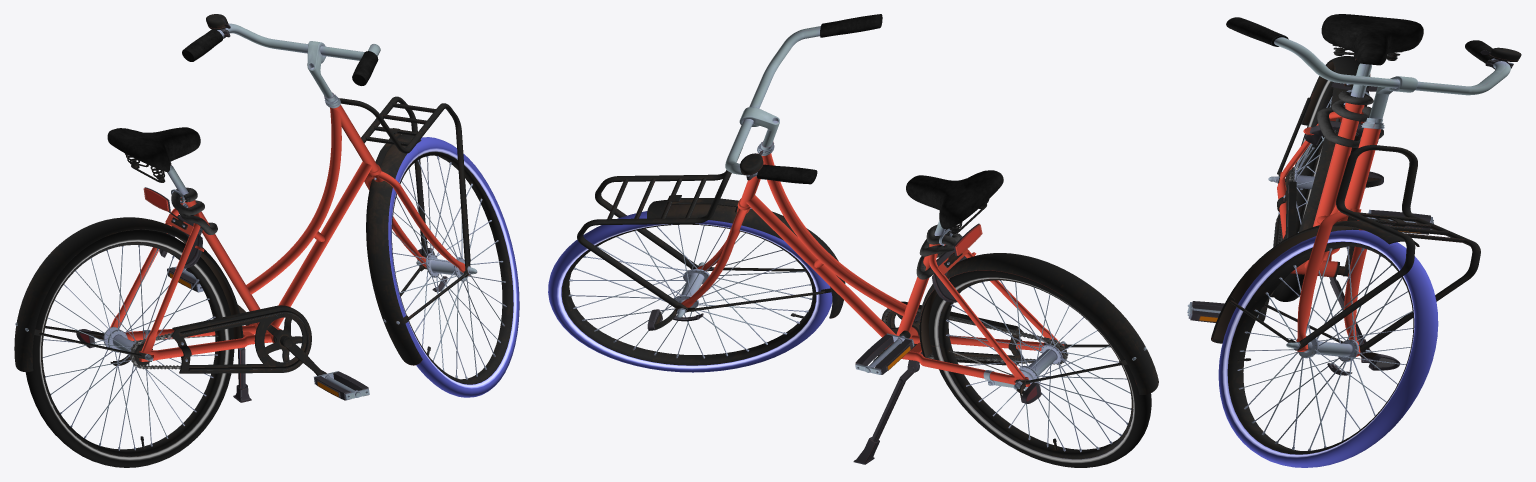
Rendered from swapfiets-sketchfab-preview.glb.
3 views of the same model, side by side, from view 1: azimuth 30°, elevation 25°; view 2: azimuth 150°, elevation 25°; view 3: azimuth 270°, elevation 25° (orthographic). The views are drawn at different scales.
Visible parts, largest first — view 1: SwapfietsBody; view 2: SwapfietsBody; view 3: SwapfietsBody.
Part boxes in pixels (x1=…): SwapfietsBody: x1=14, y1=14, x2=519, y2=467; SwapfietsBody: x1=548, y1=14, x2=1158, y2=467; SwapfietsBody: x1=1187, y1=14, x2=1521, y2=467.
Size of the model in its own units: 181 by 118 by 96.93.
2 materials, 2 textured.
